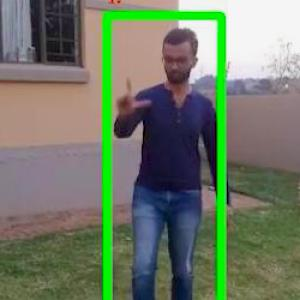land_hand: (107, 67, 152, 120)
